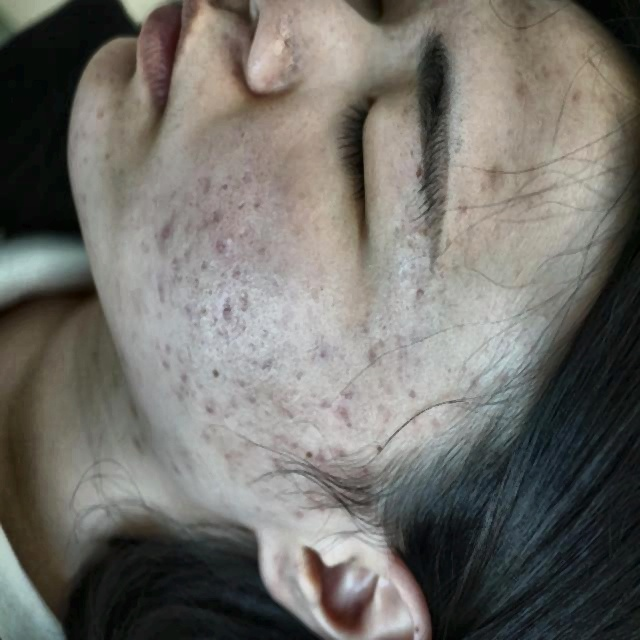comedone: (192, 395, 225, 441), (217, 292, 246, 336), (152, 221, 181, 257), (217, 224, 240, 262), (155, 355, 182, 387)
